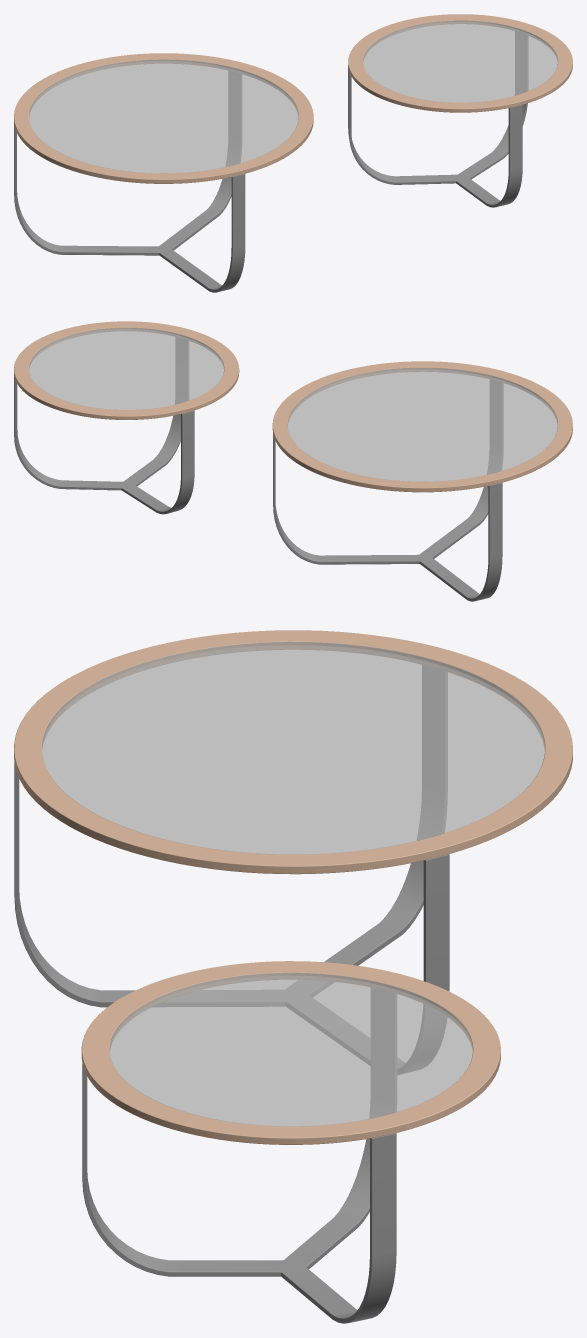
The model's file is mesa-de-centro-negroamaro.glb.
3 renders of one model, top to bottom at view 1: azimuth 30°, elevation 25°; view 2: azimuth 150°, elevation 25°; view 3: azimuth 270°, elevation 25°, orthographic. The views are drawn at different scales.
Size of the model in its own units: 1.61 by 0.4 by 0.7998.
